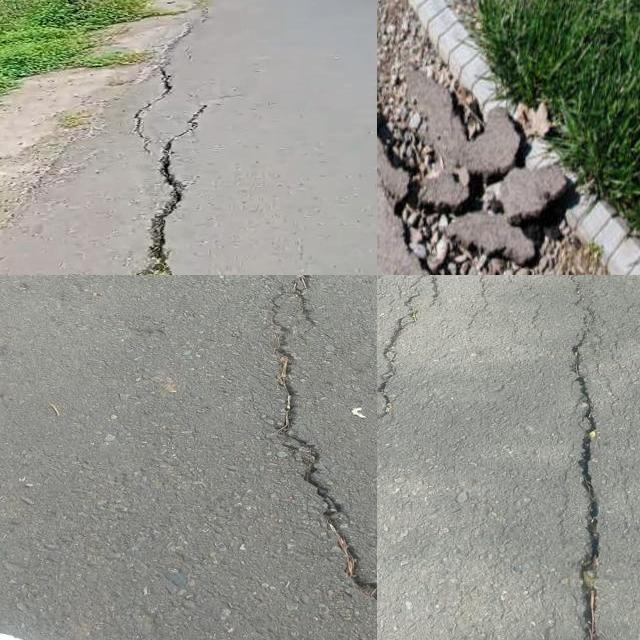Memanjang: (257, 275, 377, 618), (555, 298, 620, 640), (115, 113, 217, 275), (377, 275, 447, 472)
Pinggir: (377, 0, 640, 275)
